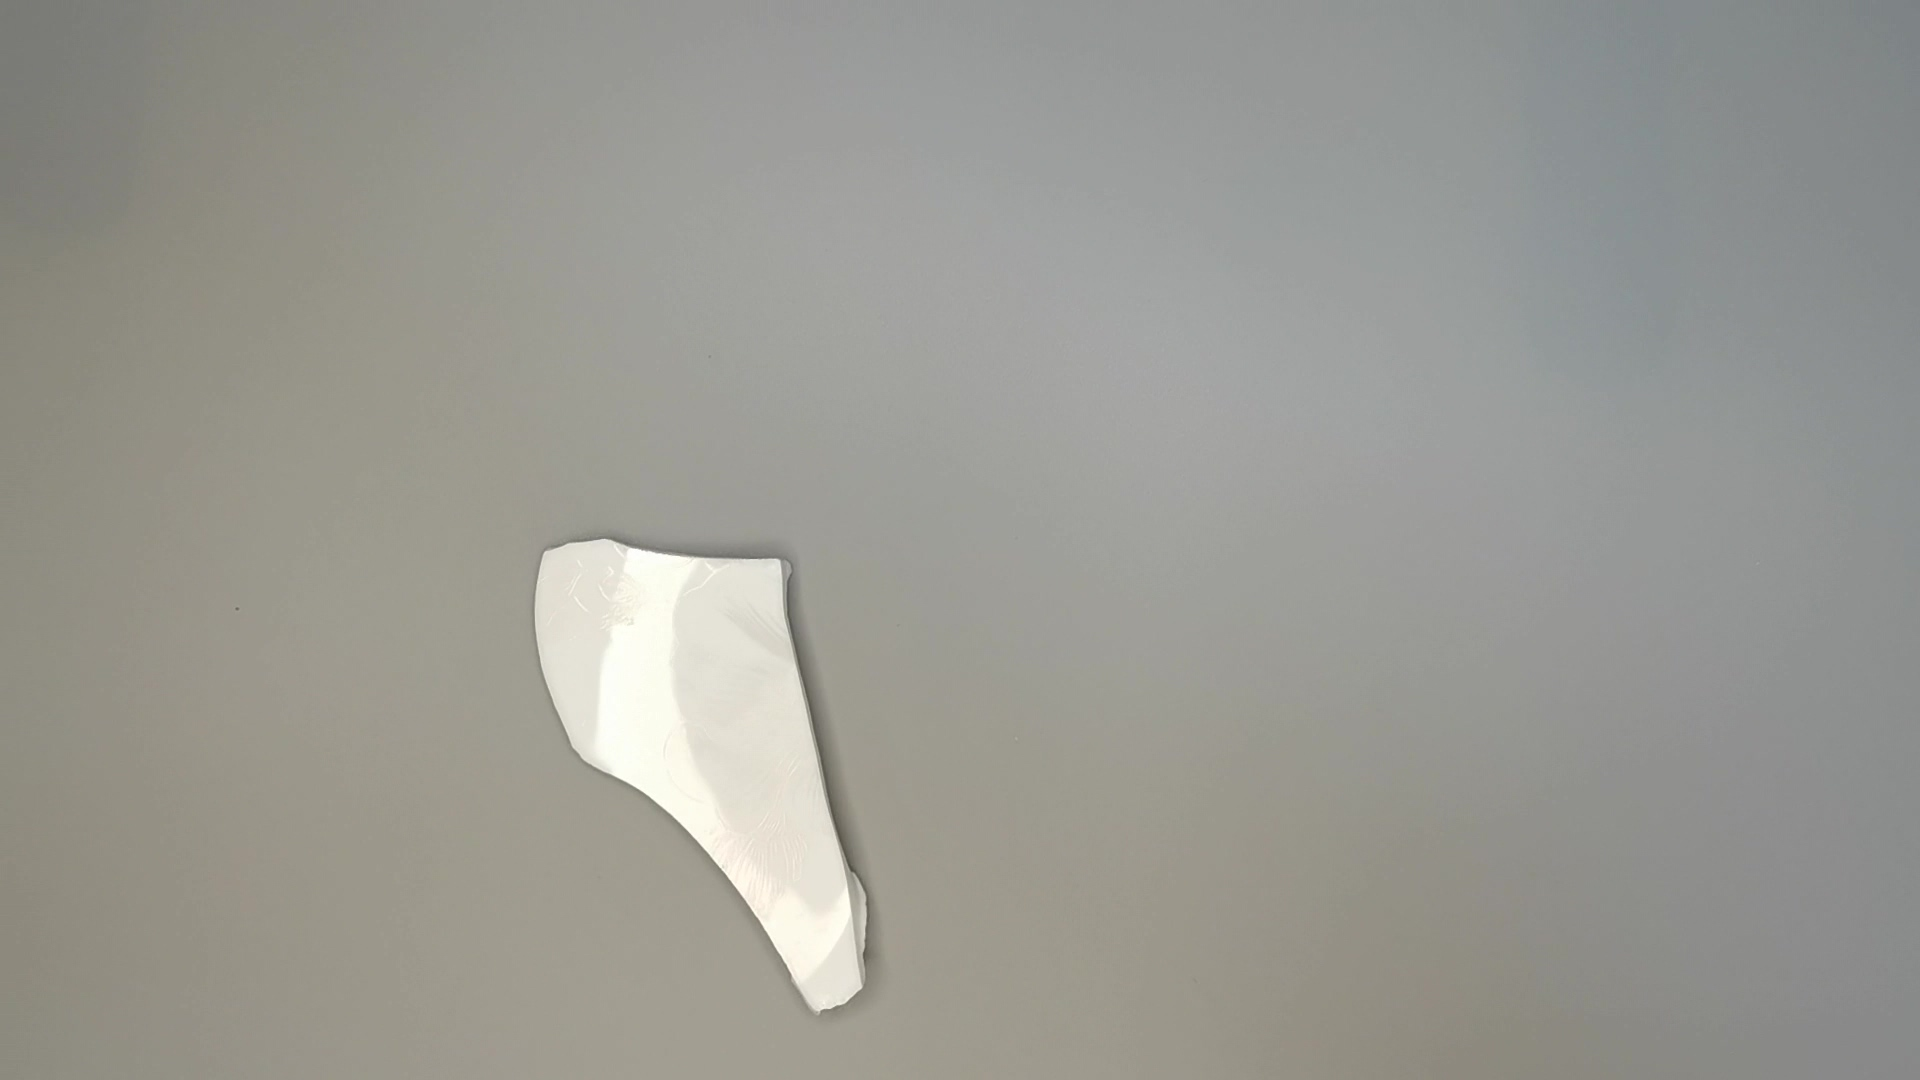ceramic: (527, 535, 877, 1013)
